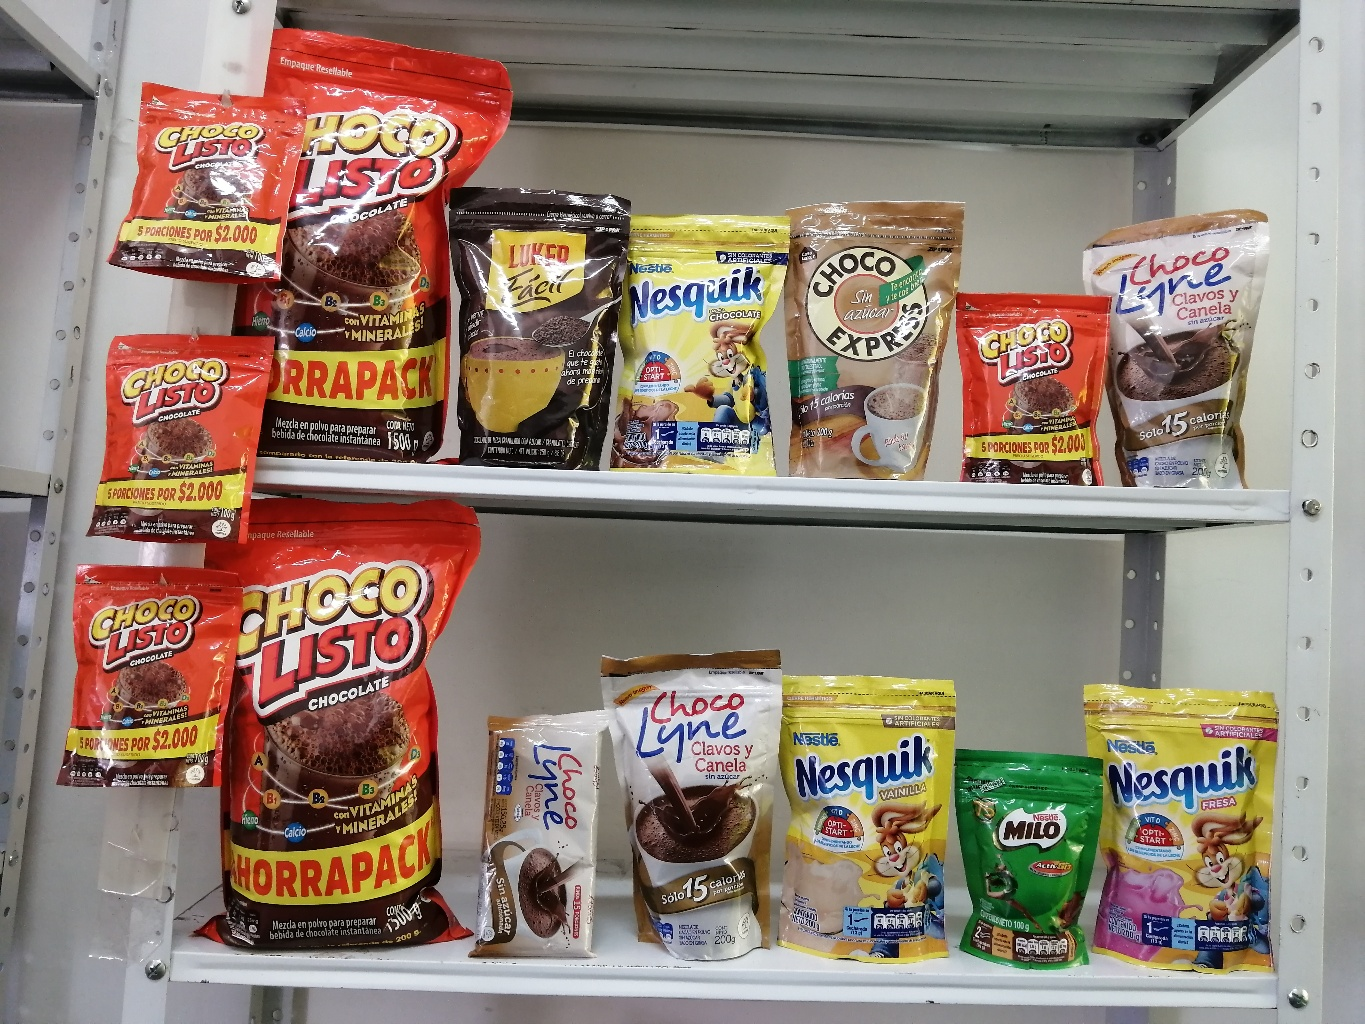COL0170103DYP1,500: (255, 19, 504, 457)
COL0170203DYP10000: (952, 742, 1104, 973)
COL0170303DYP20000: (616, 205, 799, 477)
COL0170305DYP20000: (1080, 672, 1280, 976)
COL0170306DYP20000: (780, 675, 952, 961)
